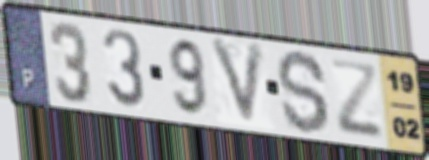3: (48, 18, 92, 106), (101, 27, 147, 111)
9: (166, 36, 210, 119)
S: (275, 47, 332, 136)
V: (207, 35, 268, 131)
Z: (328, 56, 386, 142)
